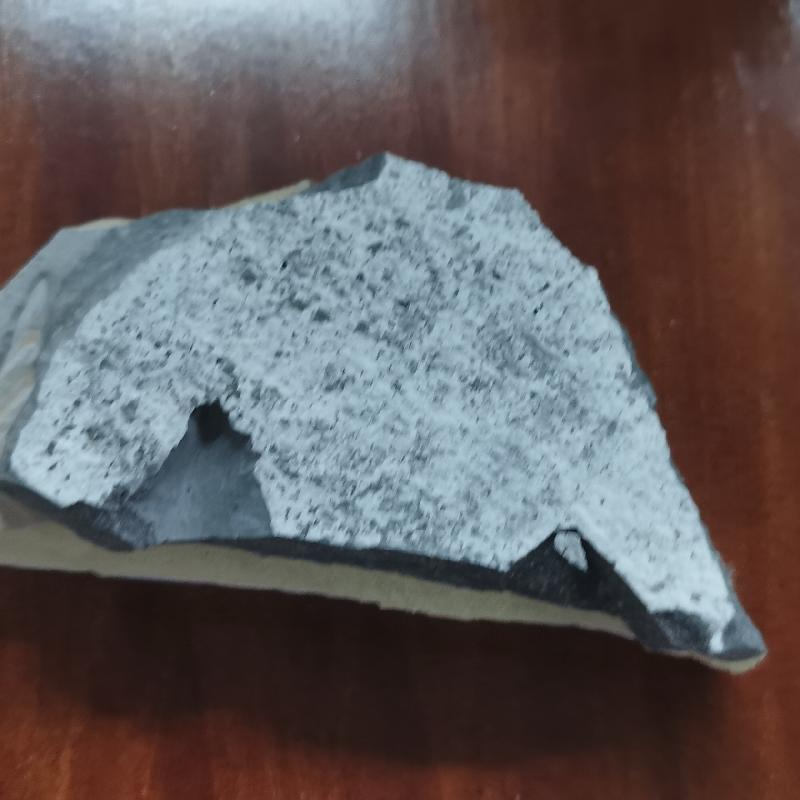tile: (4, 149, 794, 675)
